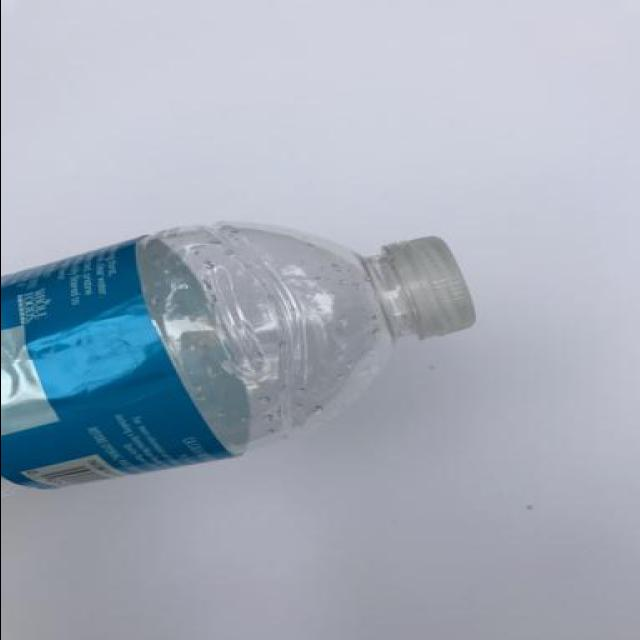PET: (0, 220, 474, 505)
